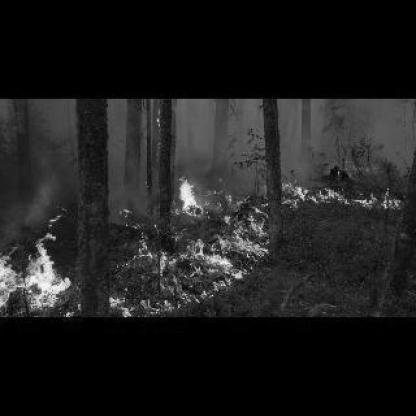fire: (1, 178, 270, 313), (282, 162, 408, 212)
